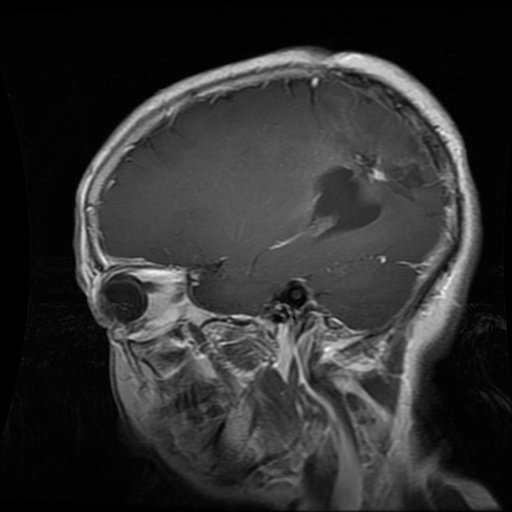glioma: (310, 147, 431, 240)
